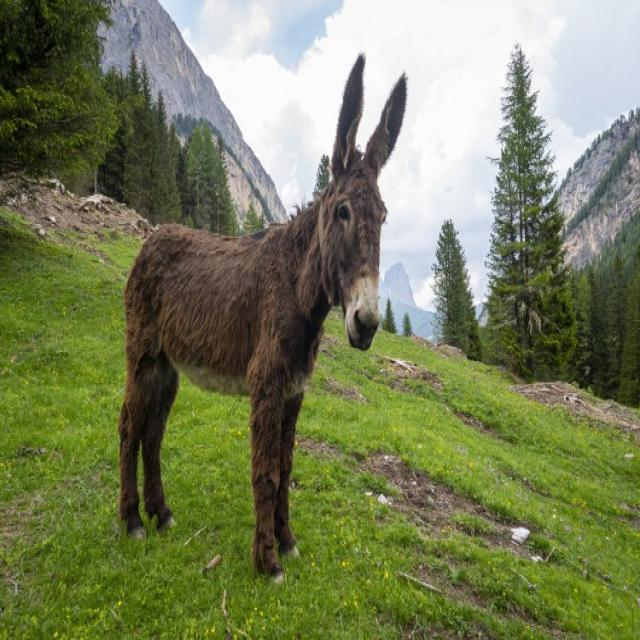Donkey: (104, 28, 415, 590)
